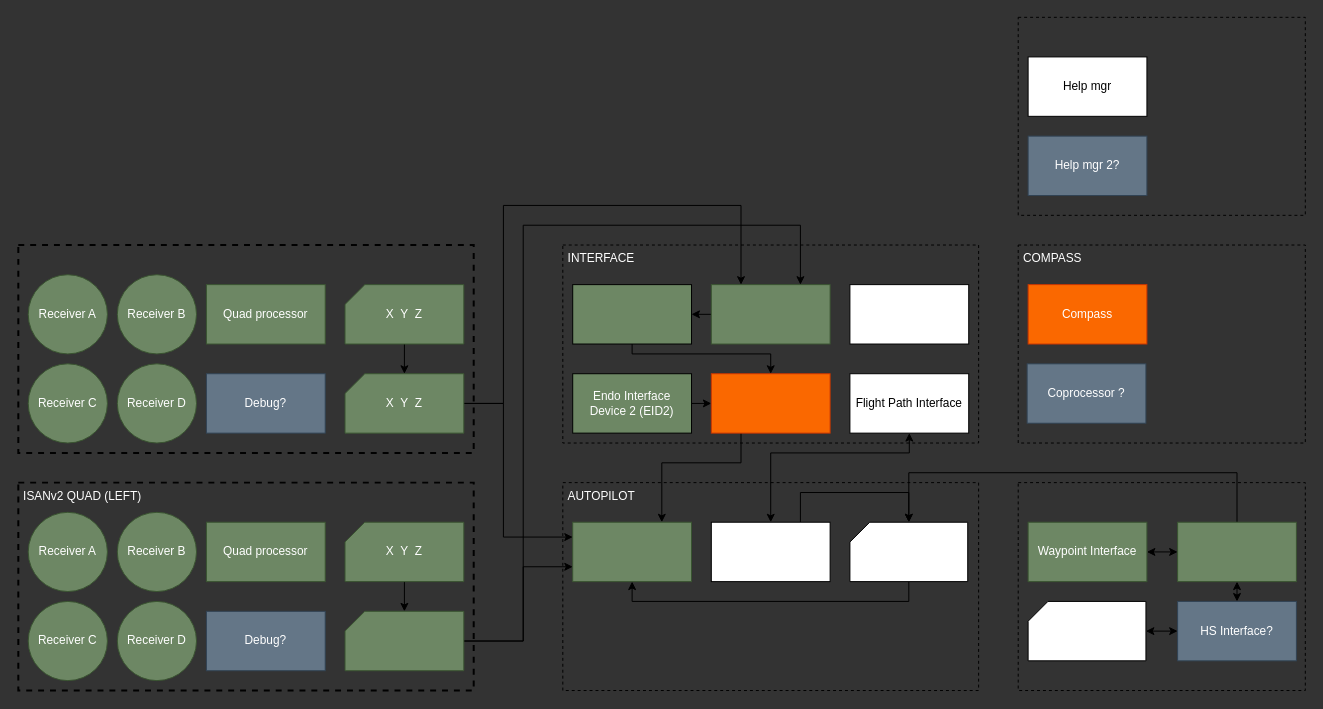
Image size: 1323x709. Some labels were removed from this diagram. The box of each missing label's shape, as (x1, y1, x2, y2) in pixels:
AP Main: (572, 521, 692, 582)
Command Interpreter: (710, 373, 830, 433)
DX DY DZ: (849, 521, 968, 582)
Endo Interface Device (EID): (572, 284, 692, 344)
Flight Path Manager: (710, 521, 830, 582)
Hard store (x2): (1027, 600, 1146, 661)
HELP MENU: (1017, 16, 1305, 215)
I J K: (344, 610, 464, 671)
ISANv2 QUAD (RIGHT): (17, 244, 474, 453)
Main Display Driver (DD): (710, 284, 830, 344)
Waypoint List & Special ETA: (849, 284, 969, 344)
Waypoint Parser: (1177, 521, 1296, 582)
WAYPOINT STORE: (1017, 482, 1305, 691)
